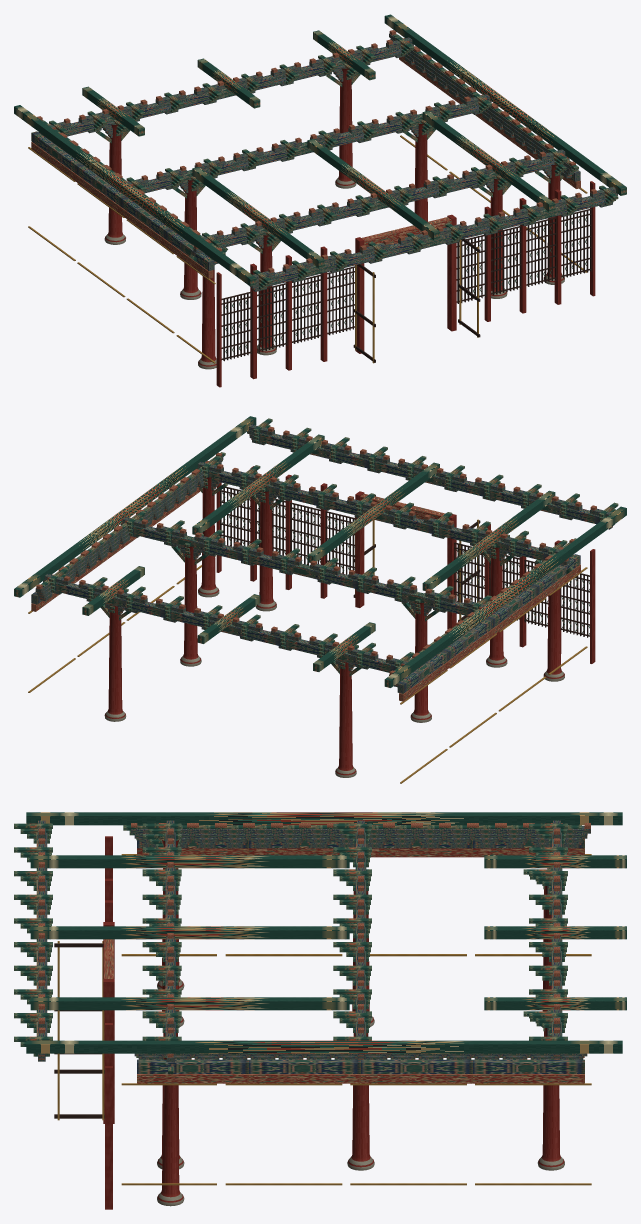
File: hall_timber.glb
3 views of the same model, one above another, from view 1: azimuth 30°, elevation 25°; view 2: azimuth 150°, elevation 25°; view 3: azimuth 270°, elevation 25° (orthographic). The views are drawn at different scales.
Parts seen in each view (by area): view 1: hall_timber0, hall_timber1; view 2: hall_timber0, hall_timber1; view 3: hall_timber0, hall_timber1.
Part boxes in pixels (<box>): hall_timber0: <box>14,14,626,387</box>; hall_timber1: <box>28,135,587,363</box>; hall_timber0: <box>14,416,626,777</box>; hall_timber1: <box>28,452,587,783</box>; hall_timber0: <box>14,812,626,1209</box>; hall_timber1: <box>121,854,591,1185</box>.
Bounding box in the file's own units: 19.95 × 6.53 × 21.9.
1 material, 1 textured.
